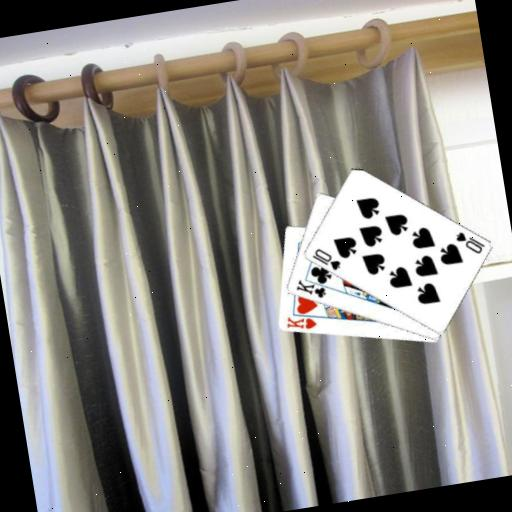10S: (307, 242, 343, 276), (451, 225, 487, 259)
KC: (290, 271, 333, 303)
KH: (281, 310, 318, 334)
